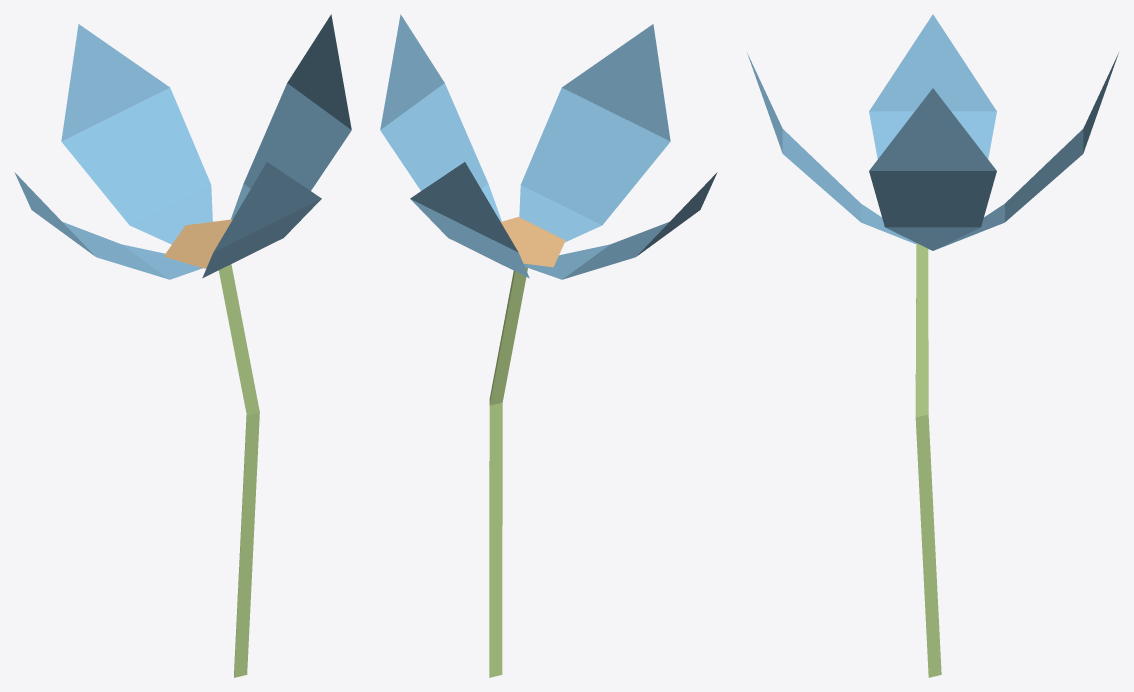
File: Flower_a_OneS_02.fbx
3 views of the same model, side by side, from view 1: azimuth 30°, elevation 25°; view 2: azimuth 150°, elevation 25°; view 3: azimuth 270°, elevation 25° (orthographic).
Visible parts, largest first — view 1: Flower_a_OneS_02; view 2: Flower_a_OneS_02; view 3: Flower_a_OneS_02.
Part boxes in pixels (box(x1,y1,x2,y2)): Flower_a_OneS_02: box(14, 14, 351, 677); Flower_a_OneS_02: box(380, 14, 717, 677); Flower_a_OneS_02: box(747, 14, 1118, 677).
Size of the model in its own units: 0.4196 by 0.8065 by 0.4316.
